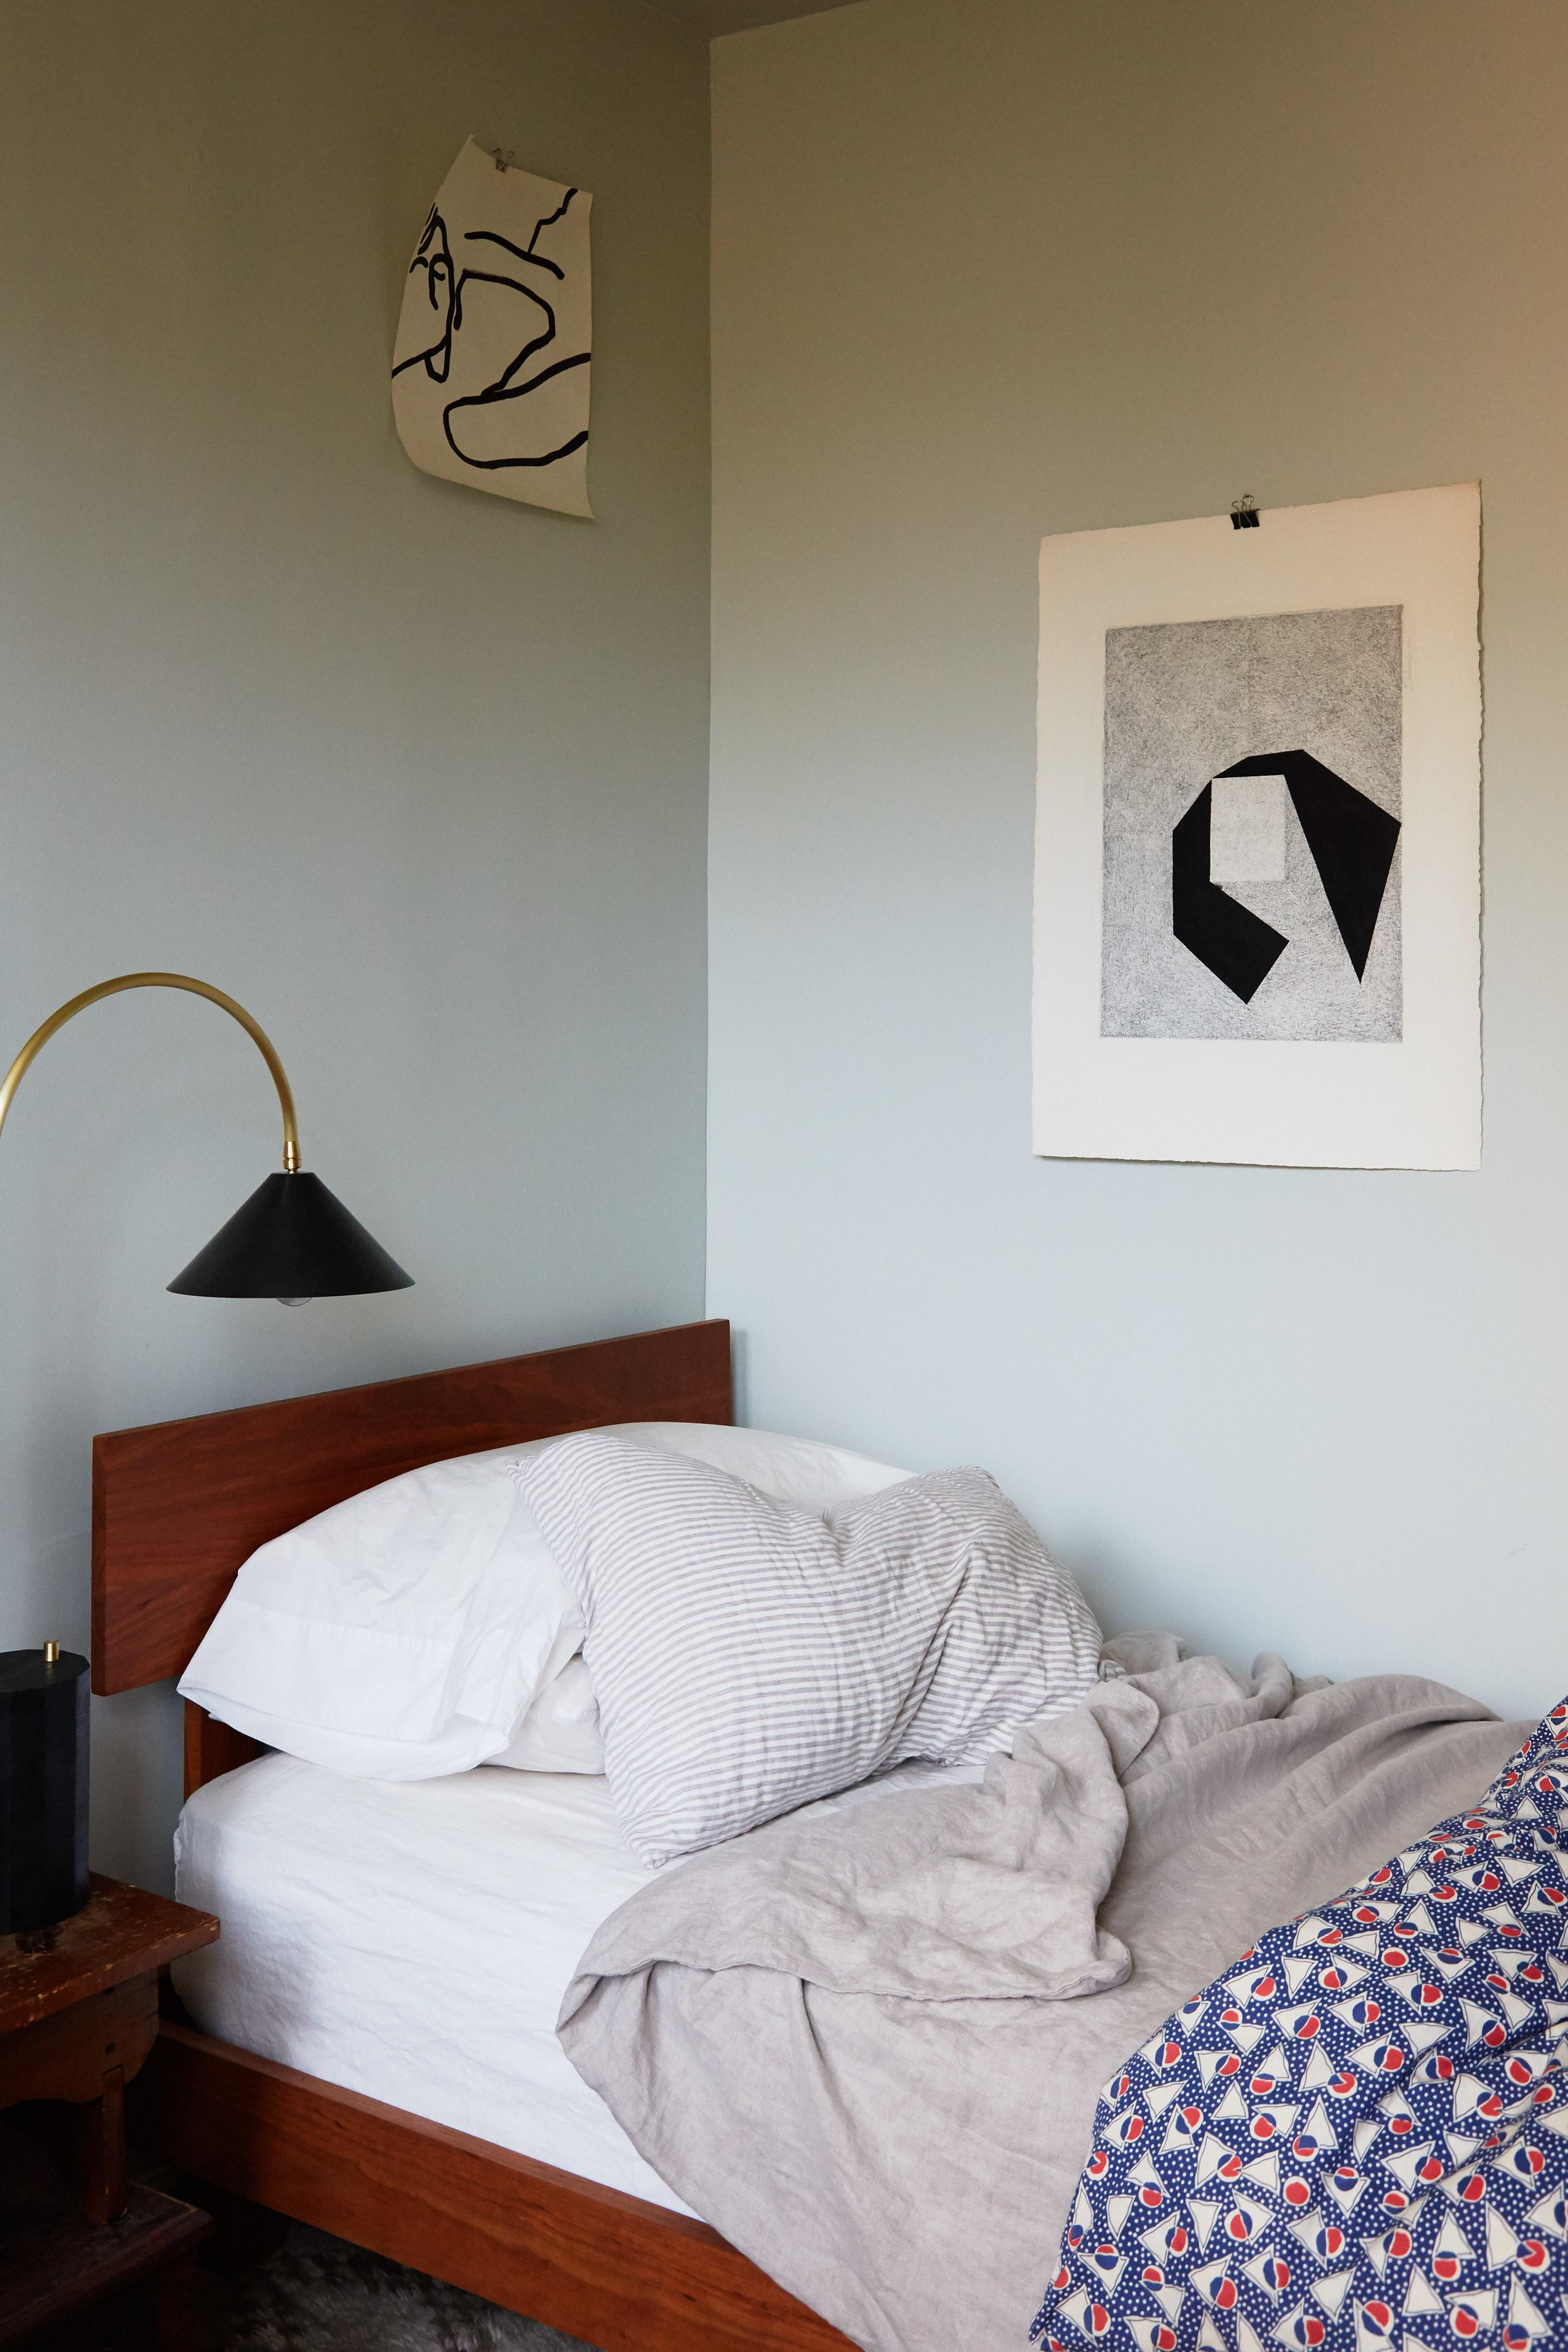bed: (77, 1300, 1568, 2348)
